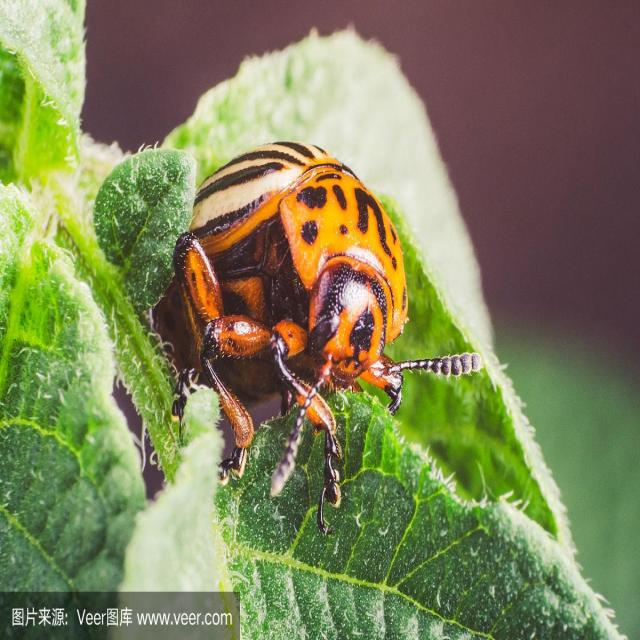ShuCaiHuaBanChong-Grown-: (160, 117, 468, 503)
